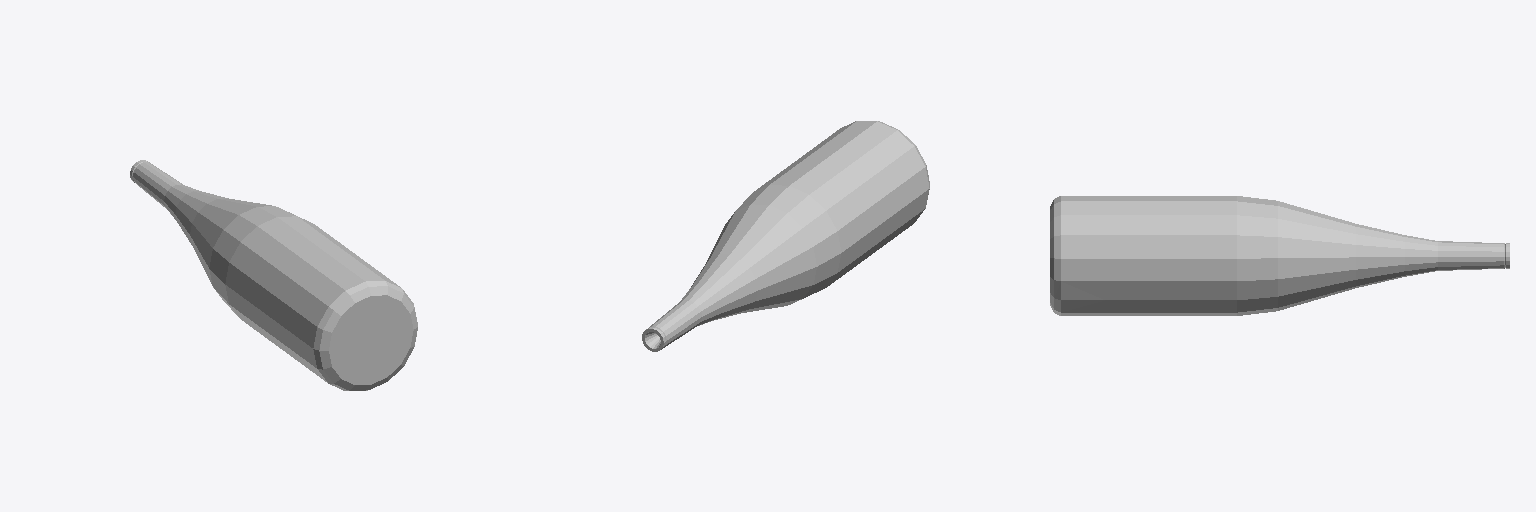
Rendered from 1 Sho Bottle.obj.
3 renders of one model, left to right at view 1: azimuth 30°, elevation 25°; view 2: azimuth 150°, elevation 25°; view 3: azimuth 270°, elevation 25°, orthographic.
Parts seen in each view (by area): view 1: SM_WEP_LiquorBottle.mo_SM_WEP_LiquorBottle.md; view 2: SM_WEP_LiquorBottle.mo_SM_WEP_LiquorBottle.md; view 3: SM_WEP_LiquorBottle.mo_SM_WEP_LiquorBottle.md.
Part boxes in pixels (left/top/right/bottom): SM_WEP_LiquorBottle.mo_SM_WEP_LiquorBottle.md: left=130, top=160, right=417, bottom=390; SM_WEP_LiquorBottle.mo_SM_WEP_LiquorBottle.md: left=642, top=121, right=929, bottom=351; SM_WEP_LiquorBottle.mo_SM_WEP_LiquorBottle.md: left=1050, top=196, right=1509, bottom=315.
Bounding box in the file's own units: 19.81 × 19.81 × 75.73.